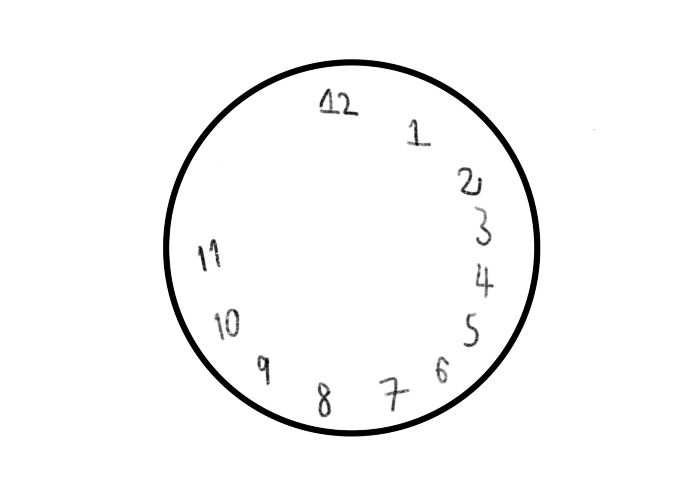eight: (314, 378, 334, 421)
eleven: (192, 235, 224, 280)
five: (463, 308, 481, 349)
four: (475, 265, 496, 296)
nine: (257, 351, 274, 385)
one: (402, 112, 434, 156)
seven: (380, 376, 410, 414)
six: (436, 355, 452, 386)
ten: (210, 308, 244, 340)
three: (474, 205, 492, 249)
twelve: (315, 81, 363, 119)
two: (455, 163, 485, 200)
